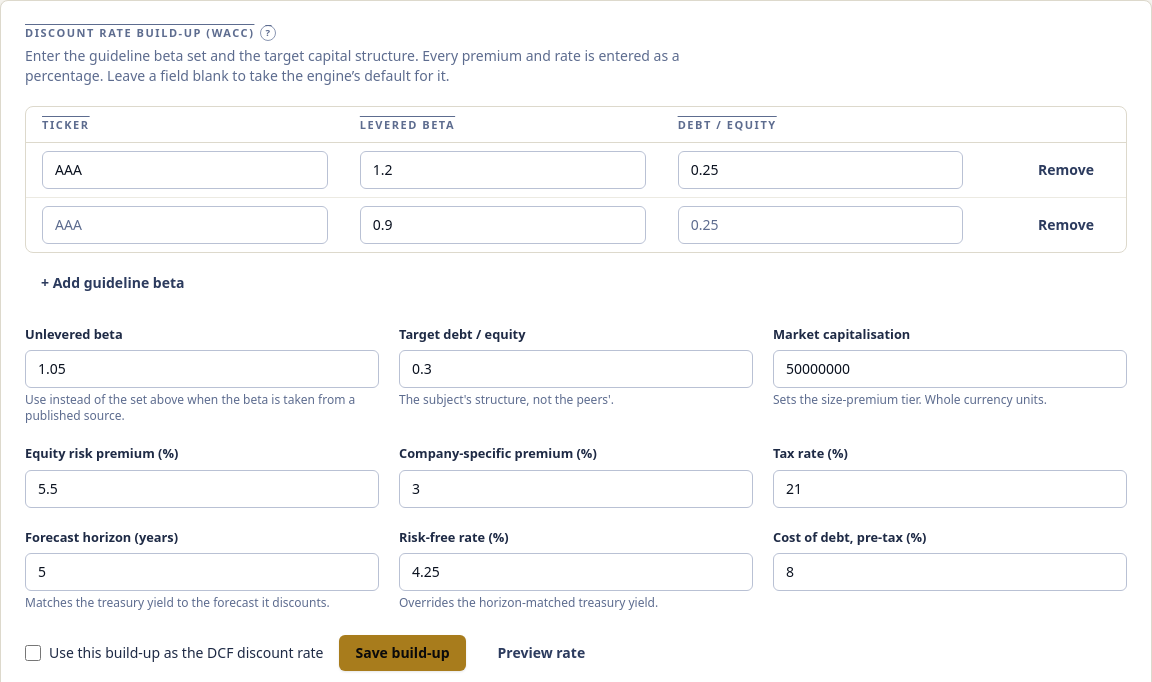
Test: WaccPanel › saving › says it is only recorded when it is not
Click the button "Save build-up". click: [403, 653]
box: x1=340 y1=635 x2=466 y2=671
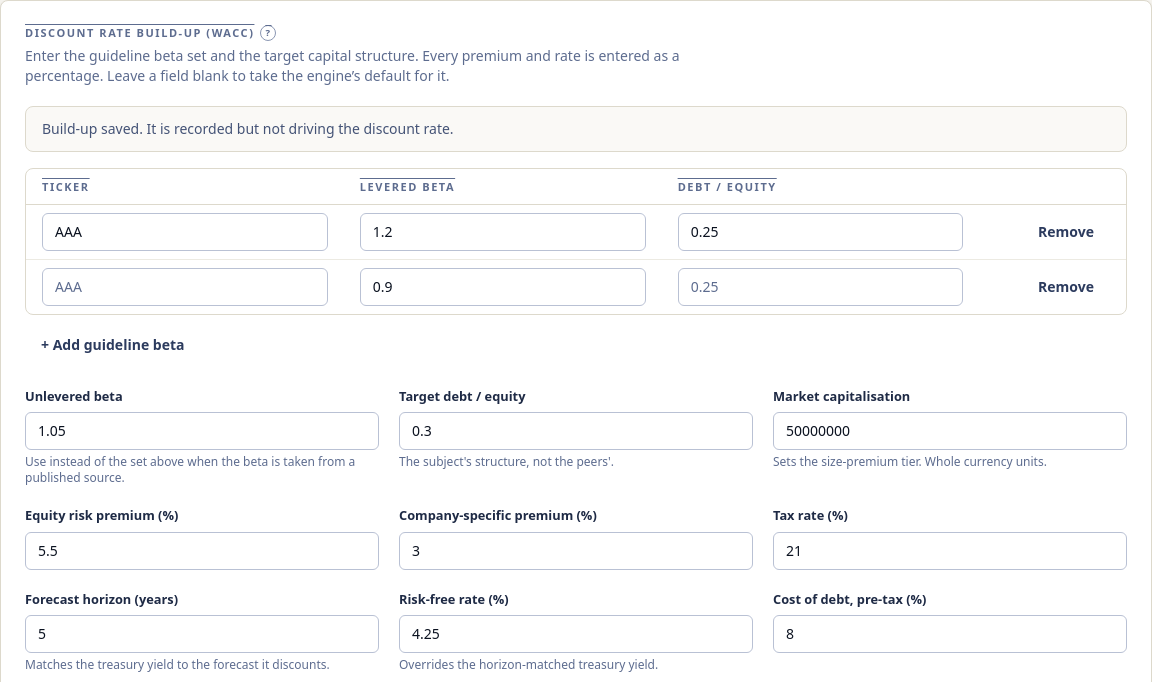
Now the text "Build-up saved. It is recorded but not driving the discount rate." is shown, box x1=25 y1=106 x2=1127 y2=152
